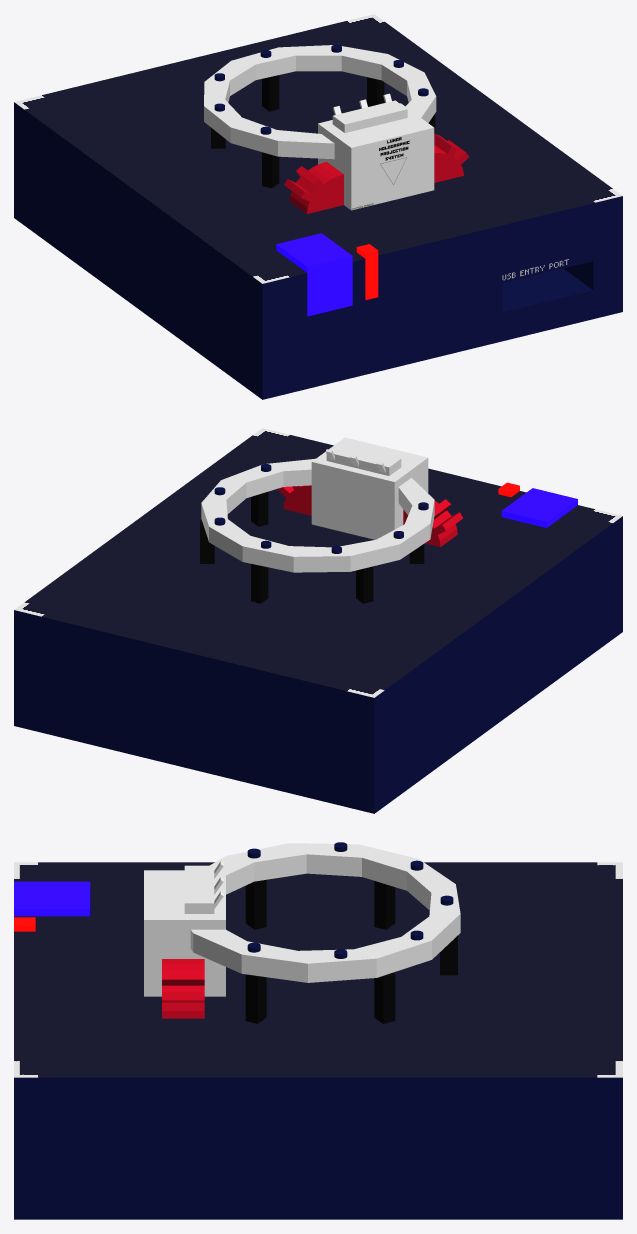
File: MOONPROJECTER.glb
The picture shows the model from 3 angles, top to bottom: view 1: azimuth 30°, elevation 25°; view 2: azimuth 150°, elevation 25°; view 3: azimuth 270°, elevation 25°; orthographic projection. The views are drawn at different scales.
Visible parts, largest first — view 1: Cube, Cube.001, Cube.002, Cube.004, Cube.006, Cube.005, Cube.003, Cylinder; view 2: Cube, Cube.001, Cube.006, Cube.002, Cube.004, Cube.005, Cylinder; view 3: Cube, Cube.001, Cube.006, Cube.002, Cube.005, Cylinder.
Part boxes in pixels (box(x1,y1,x2,y2)): Cube: box(14, 14, 622, 399); Cube.001: box(204, 45, 436, 210); Cube.002: box(276, 233, 352, 316); Cube.004: box(284, 161, 343, 213); Cube.006: box(211, 75, 435, 188); Cube.005: box(434, 133, 469, 182); Cube.003: box(356, 244, 378, 299); Cylinder: box(214, 44, 428, 134); Cube: box(14, 428, 622, 813); Cube.001: box(201, 437, 434, 572); Cube.006: box(200, 492, 424, 603); Cube.002: box(501, 488, 577, 527); Cube.004: box(403, 499, 462, 547); Cube.005: box(278, 485, 311, 515); Cylinder: box(214, 464, 428, 553); Cube: box(14, 862, 622, 1219); Cube.001: box(144, 843, 460, 996); Cube.006: box(245, 880, 457, 1023); Cube.002: box(14, 881, 90, 916); Cube.005: box(162, 959, 204, 1018); Cylinder: box(247, 842, 453, 958).
Size of the model in its own units: 0.4029 by 0.2062 by 0.4813.
Materials: 9 (3 with a texture image).
